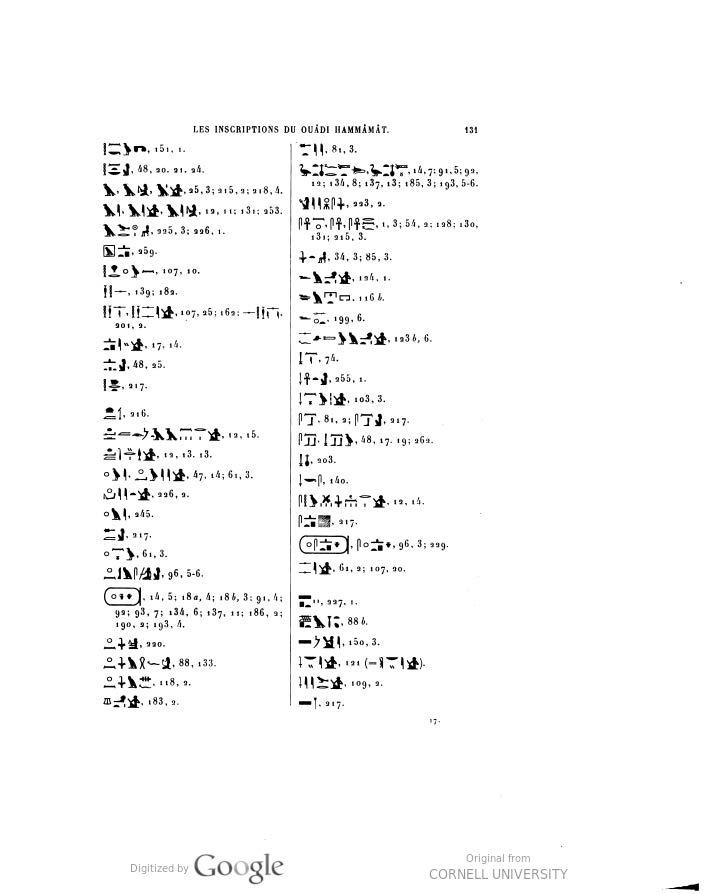circle: (291, 521, 361, 574), (96, 576, 156, 618)
